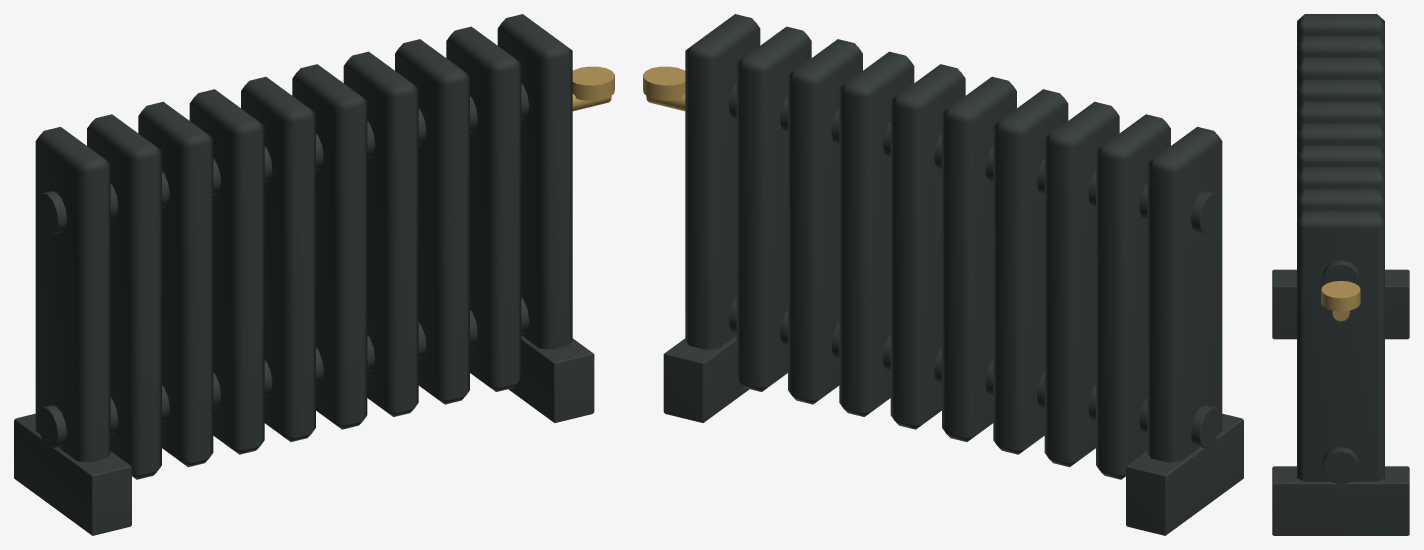
Rendered from rpg-mansion-radiator-01.glb.
3 views of the same model, side by side, from view 1: azimuth 30°, elevation 25°; view 2: azimuth 150°, elevation 25°; view 3: azimuth 270°, elevation 25° (orthographic). The views are drawn at different scales.
Parts seen in each view (by area): view 1: rpg-mansion-radiator-01; view 2: rpg-mansion-radiator-01; view 3: rpg-mansion-radiator-01.
Boxes of the visible parts, left/top/right/bottom form: rpg-mansion-radiator-01: left=14, top=14, right=614, bottom=535; rpg-mansion-radiator-01: left=643, top=14, right=1243, bottom=535; rpg-mansion-radiator-01: left=1272, top=14, right=1409, bottom=535.
Size of the model in its own units: 1.16 by 0.705 by 0.28.
